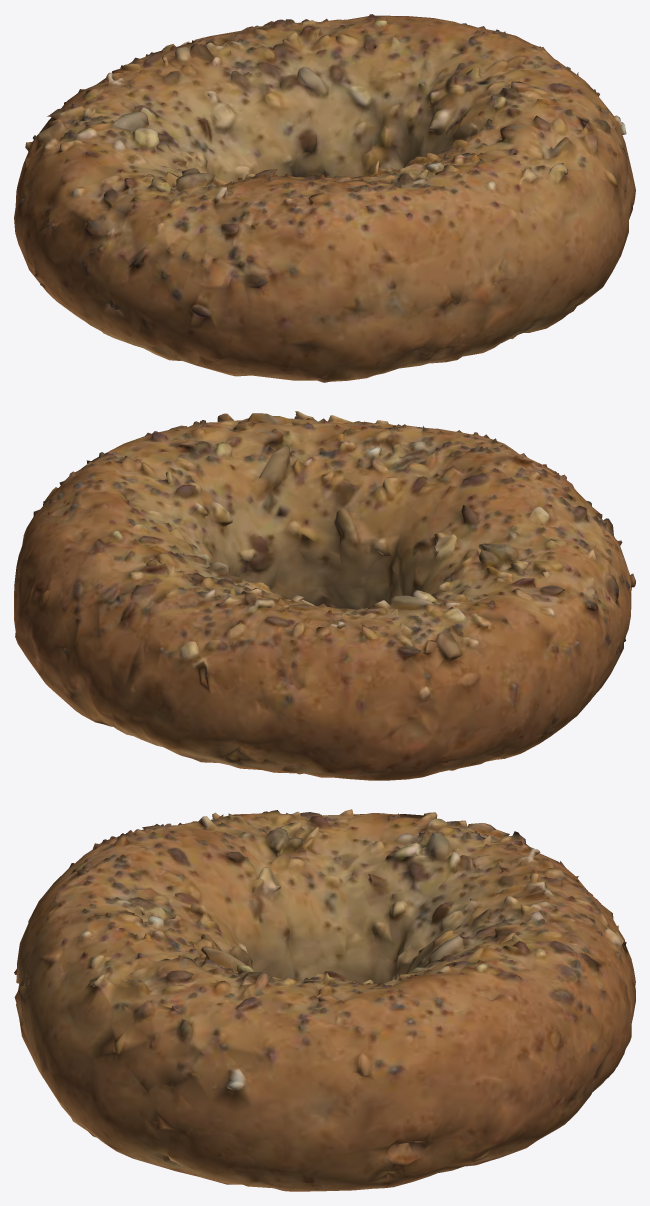
Rendered from bread-rustic.glb.
3 views of the same model, one above another, from view 1: azimuth 30°, elevation 25°; view 2: azimuth 150°, elevation 25°; view 3: azimuth 270°, elevation 25° (orthographic). The views are drawn at different scales.
Visible parts, largest first — view 1: bread-rustic; view 2: bread-rustic; view 3: bread-rustic.
Boxes of the visible parts, x1=… form: bread-rustic: x1=14, y1=14, x2=635, y2=382; bread-rustic: x1=14, y1=411, x2=635, y2=780; bread-rustic: x1=14, y1=809, x2=635, y2=1191.
Size of the model in its own units: 0.1305 by 0.0405 by 0.1235.
Materials: 1 (1 with a texture image).
